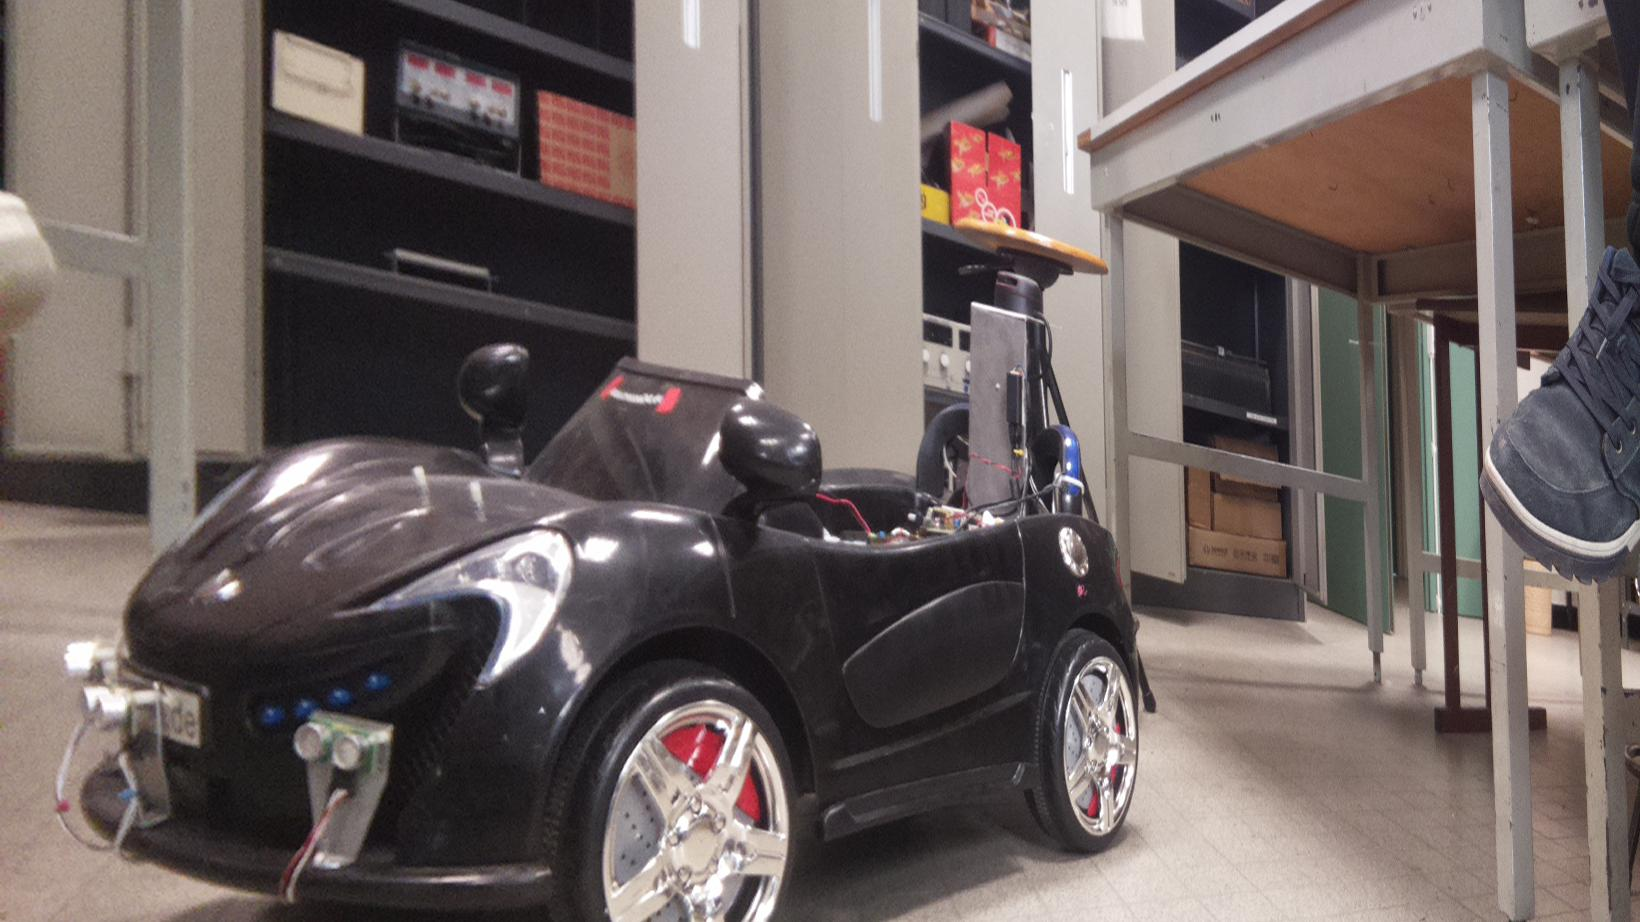big: (52, 269, 1151, 922)
